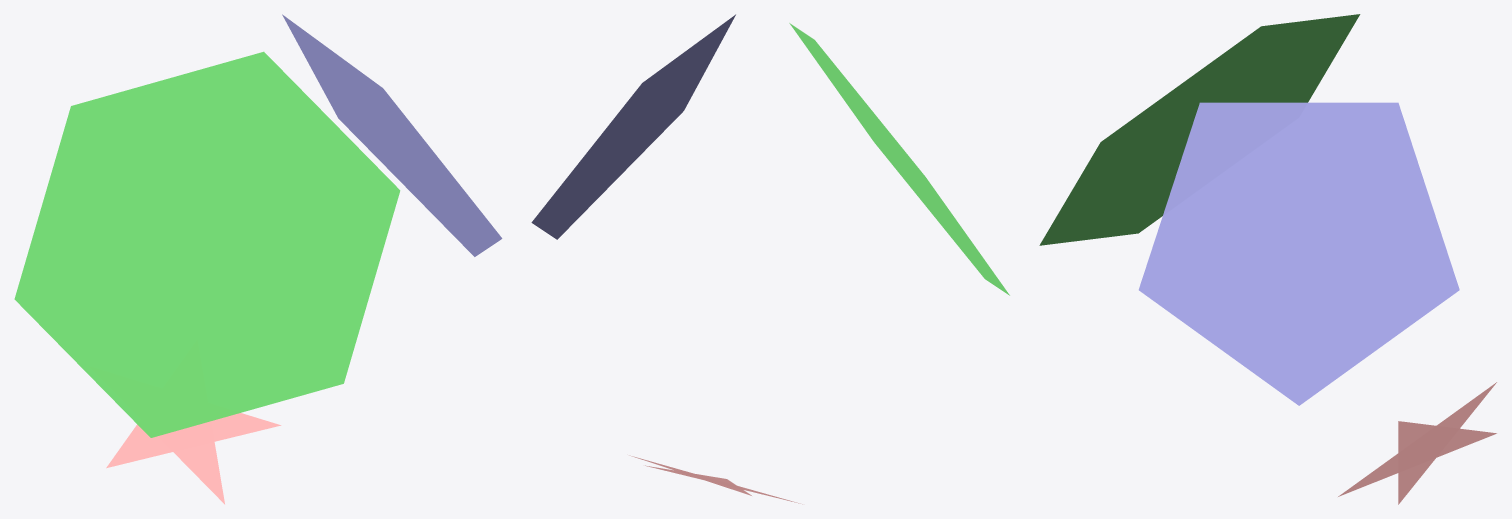
Rendered from IcosidodecadodecahedronF.obj.
The picture shows the model from 3 angles, left to right: view 1: azimuth 30°, elevation 25°; view 2: azimuth 150°, elevation 25°; view 3: azimuth 270°, elevation 25°; orthographic projection. The views are drawn at different scales.
Size of the model in its own units: 2.62 by 2.62 by 2.31.
